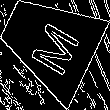M_NW: (19, 10, 79, 74)
